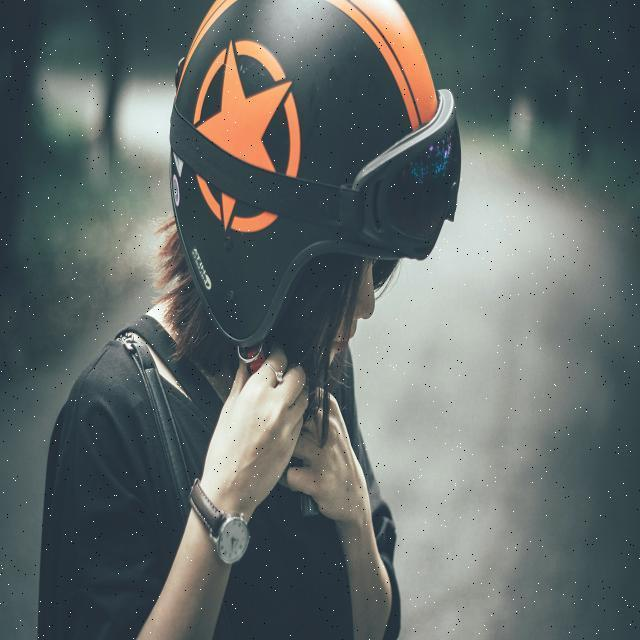helmet: (170, 2, 462, 376)
